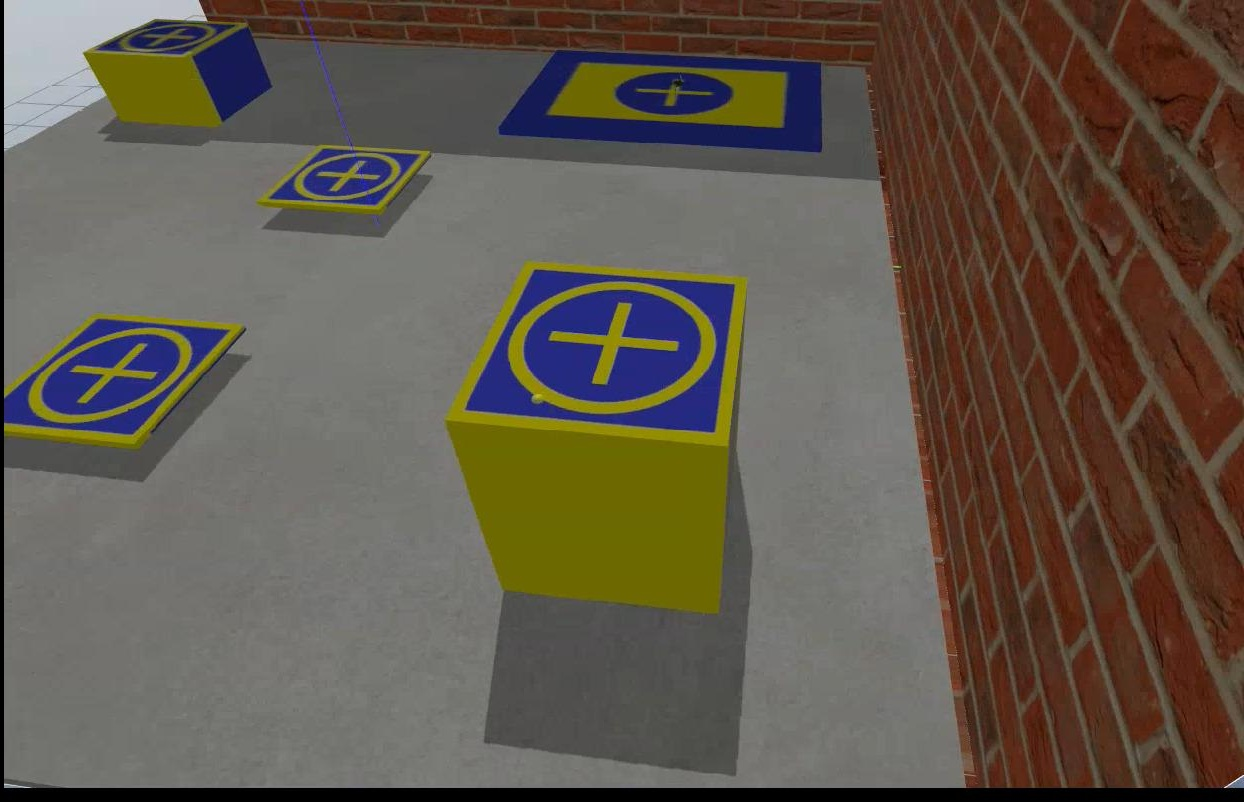large_base: (490, 51, 822, 148)
small_base: (444, 263, 747, 447), (0, 315, 244, 450), (259, 144, 427, 216), (80, 15, 249, 67)
